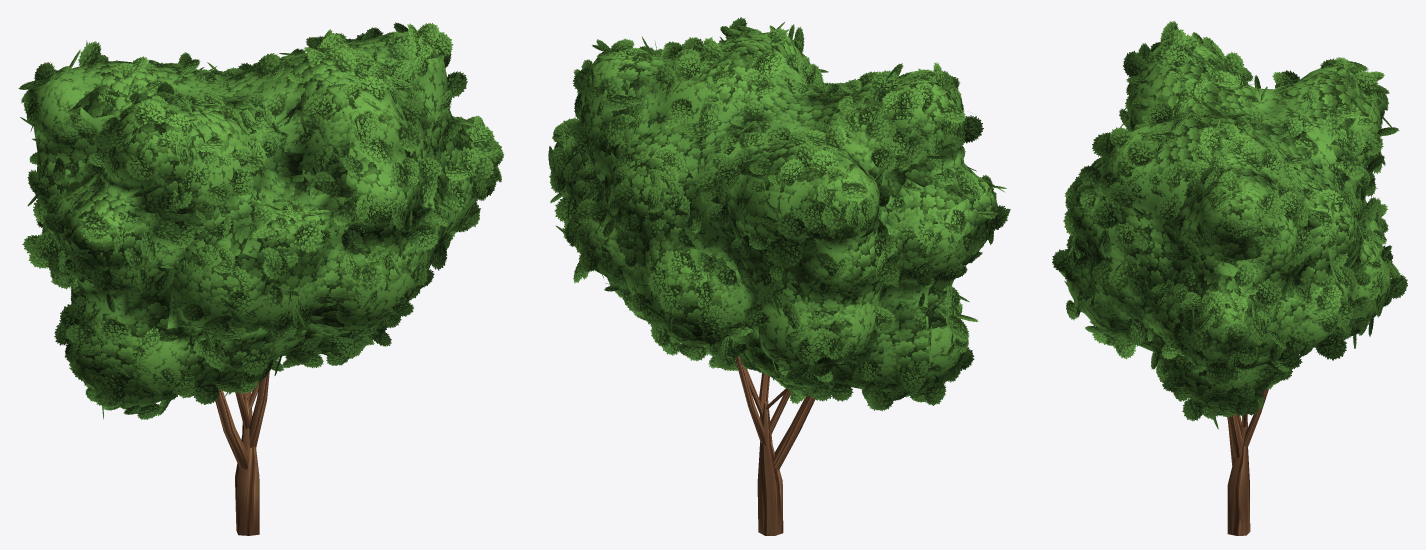
The model's file is shrub_v2.glb.
3 renders of one model, left to right at view 1: azimuth 30°, elevation 25°; view 2: azimuth 150°, elevation 25°; view 3: azimuth 270°, elevation 25°, orthographic. The views are drawn at different scales.
Parts seen in each view (by area): view 1: shrub_v2_leaves_LOD0, shrub_v2_volume_LOD0, shrub_v2_trunk_LOD0; view 2: shrub_v2_leaves_LOD0, shrub_v2_volume_LOD0, shrub_v2_trunk_LOD0; view 3: shrub_v2_leaves_LOD0, shrub_v2_volume_LOD0, shrub_v2_trunk_LOD0.
Boxes of the visible parts, x1,y1,x2,y2 form: shrub_v2_leaves_LOD0: (18, 22, 504, 419); shrub_v2_volume_LOD0: (33, 33, 484, 409); shrub_v2_trunk_LOD0: (215, 371, 269, 535); shrub_v2_leaves_LOD0: (548, 17, 1010, 411); shrub_v2_volume_LOD0: (554, 32, 998, 394); shrub_v2_trunk_LOD0: (736, 356, 815, 535); shrub_v2_leaves_LOD0: (1052, 21, 1407, 429); shrub_v2_volume_LOD0: (1067, 43, 1390, 408); shrub_v2_trunk_LOD0: (1227, 388, 1268, 535).
Size of what is drawn, in the model's own units: 2.8 by 2.81 by 2.05.
3 materials, 3 textured.
